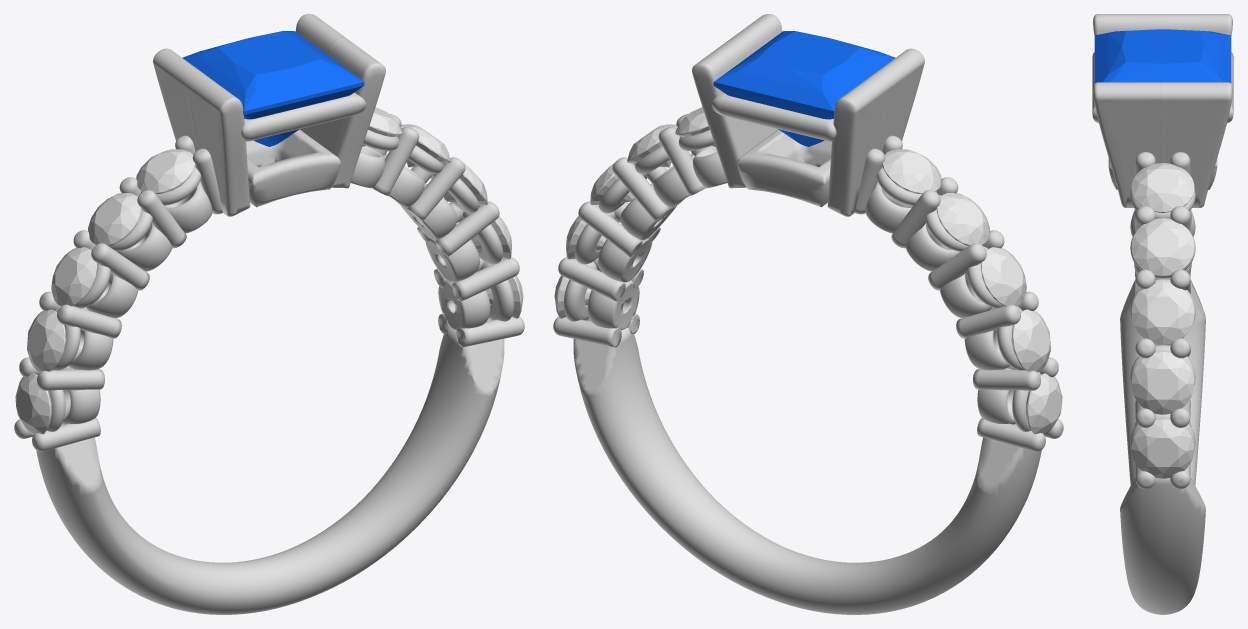
File: bluesapphire-princess-platinum-halfmoonbezel-taperedband-11stone.glb
3 views of the same model, side by side, from view 1: azimuth 30°, elevation 25°; view 2: azimuth 150°, elevation 25°; view 3: azimuth 270°, elevation 25° (orthographic).
Visible parts, largest first — view 1: metal, stone, side.004, side.003, side.005, side.002, side, side.007; view 2: metal, stone, side.004, side.003, side.005, side.002, side, side.007; view 3: metal, stone, side.009, side.008, side.007, side.001, side.006.
Boxes of the visible parts, left/top/right/bottom form: metal: left=14, top=14, right=524, bottom=614; stone: left=182, top=31, right=364, bottom=146; side.004: left=88, top=193, right=141, bottom=245; side.003: left=51, top=247, right=97, bottom=306; side.005: left=136, top=149, right=195, bottom=193; side.002: left=27, top=309, right=66, bottom=372; side: left=15, top=373, right=51, bottom=435; side.007: left=400, top=124, right=450, bottom=167; metal: left=553, top=14, right=1063, bottom=614; stone: left=713, top=31, right=895, bottom=146; side.004: left=936, top=193, right=989, bottom=245; side.003: left=980, top=247, right=1026, bottom=306; side.005: left=882, top=149, right=941, bottom=193; side.002: left=1011, top=309, right=1050, bottom=372; side: left=1026, top=373, right=1062, bottom=435; side.007: left=627, top=124, right=677, bottom=167; metal: left=1092, top=14, right=1233, bottom=614; stone: left=1094, top=29, right=1231, bottom=83; side.009: left=1131, top=352, right=1194, bottom=414; side.008: left=1131, top=282, right=1194, bottom=344; side.007: left=1131, top=218, right=1194, bottom=276; side.001: left=1131, top=419, right=1194, bottom=478; side.006: left=1131, top=163, right=1194, bottom=212.
Size of the model in its own units: 22.23 by 23.85 by 5.6.
